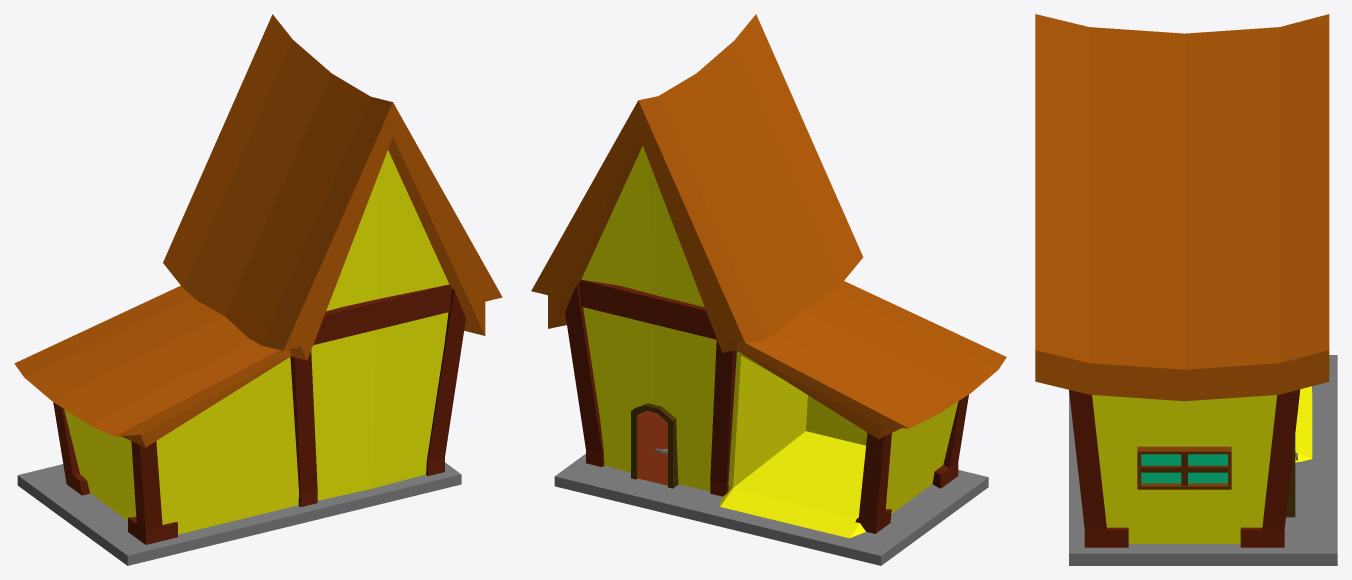
The model's file is CasaComCagragemFechadaAmaranha.fbx.
3 views of the same model, side by side, from view 1: azimuth 30°, elevation 25°; view 2: azimuth 150°, elevation 25°; view 3: azimuth 270°, elevation 25° (orthographic). The views are drawn at different scales.
Parts seen in each view (by area): view 1: CasaComCagragemFechadaAmaranha; view 2: CasaComCagragemFechadaAmaranha; view 3: CasaComCagragemFechadaAmaranha.
Boxes of the visible parts, x1,y1,x2,y2 form: CasaComCagragemFechadaAmaranha: (14,14,502,565); CasaComCagragemFechadaAmaranha: (531,14,1006,565); CasaComCagragemFechadaAmaranha: (1035,14,1337,565).
Size of the model in its own units: 1207 by 1225 by 664.
